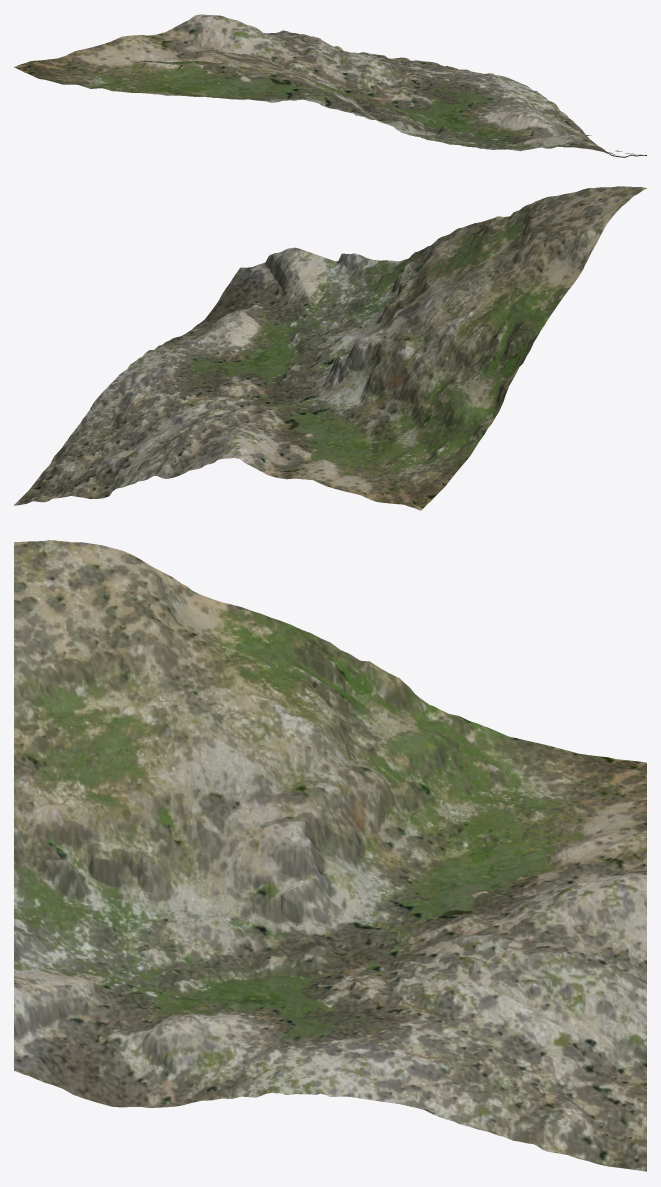
The picture shows the model from 3 angles, top to bottom: view 1: azimuth 30°, elevation 25°; view 2: azimuth 150°, elevation 25°; view 3: azimuth 270°, elevation 25°; orthographic projection. The views are drawn at different scales.
Size of the model in its own units: 500 by 298 by 481.
1 material, 1 textured.
